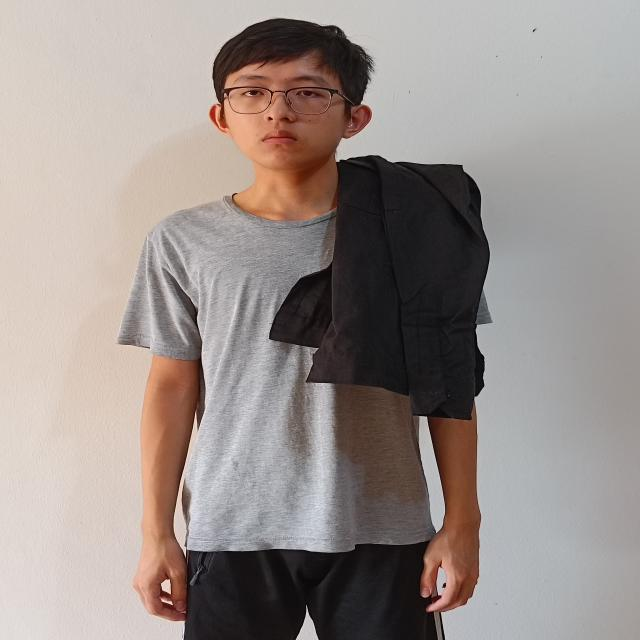person_without_labcoat: (117, 18, 491, 640)
